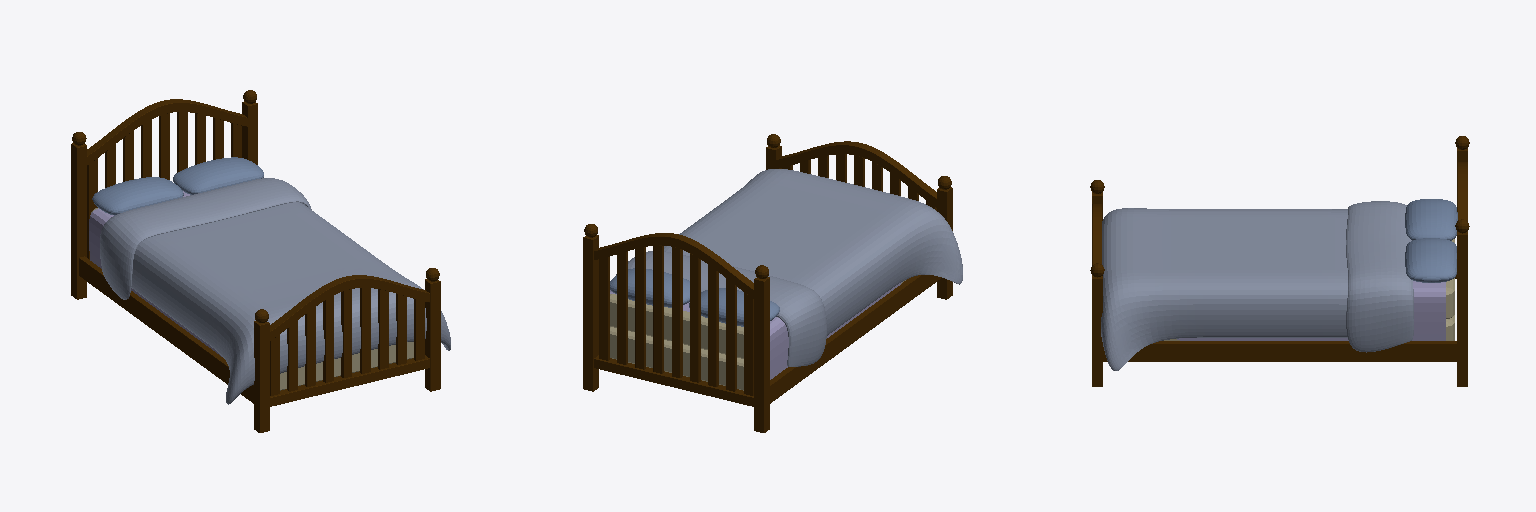
The model's file is bed2.obj.
The picture shows the model from 3 angles: view 1: azimuth 30°, elevation 25°; view 2: azimuth 150°, elevation 25°; view 3: azimuth 270°, elevation 25°; orthographic projection.
Visible parts, largest first — view 1: couch, structure, pillow, matress, sheet; view 2: structure, couch, matress, pillow, sheet; view 3: couch, structure, pillow, sheet, matress.
Boxes of the visible parts, <box> form: couch: <box>100,178,450,404</box>; structure: <box>71,90,440,432</box>; pillow: <box>92,157,263,215</box>; matress: <box>91,208,413,390</box>; sheet: <box>89,191,221,356</box>; structure: <box>583,134,952,432</box>; couch: <box>616,169,962,366</box>; matress: <box>610,280,905,390</box>; pillow: <box>610,268,779,326</box>; sheet: <box>610,282,901,379</box>; couch: <box>1101,201,1413,370</box>; structure: <box>1090,136,1469,386</box>; pillow: <box>1405,199,1457,282</box>; sheet: <box>1177,281,1445,340</box>; matress: <box>1164,239,1454,340</box>.
Bounding box in the file's own units: 2.89 × 2.15 × 4.27.